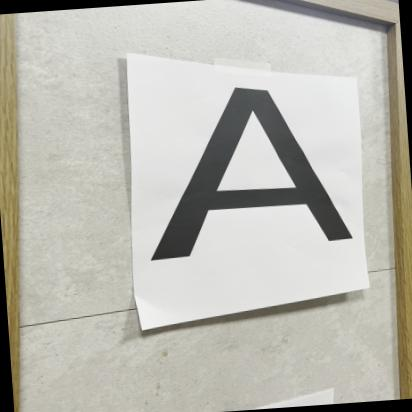seat: (133, 75, 353, 298)
